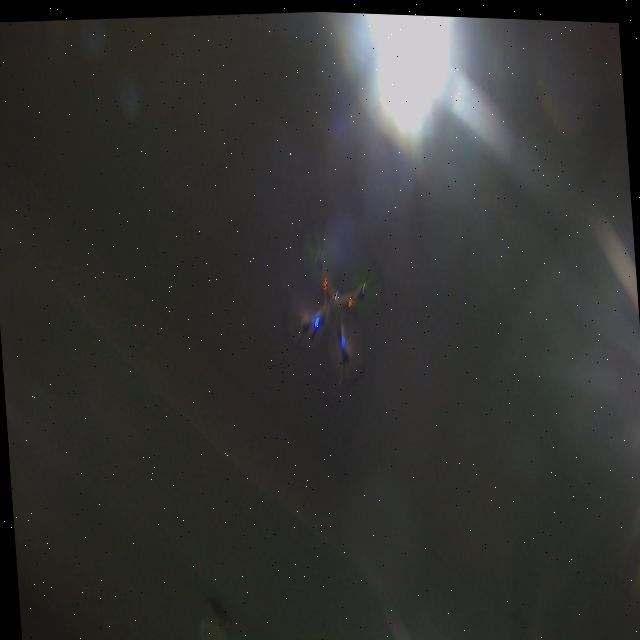drone: (274, 209, 394, 392)
